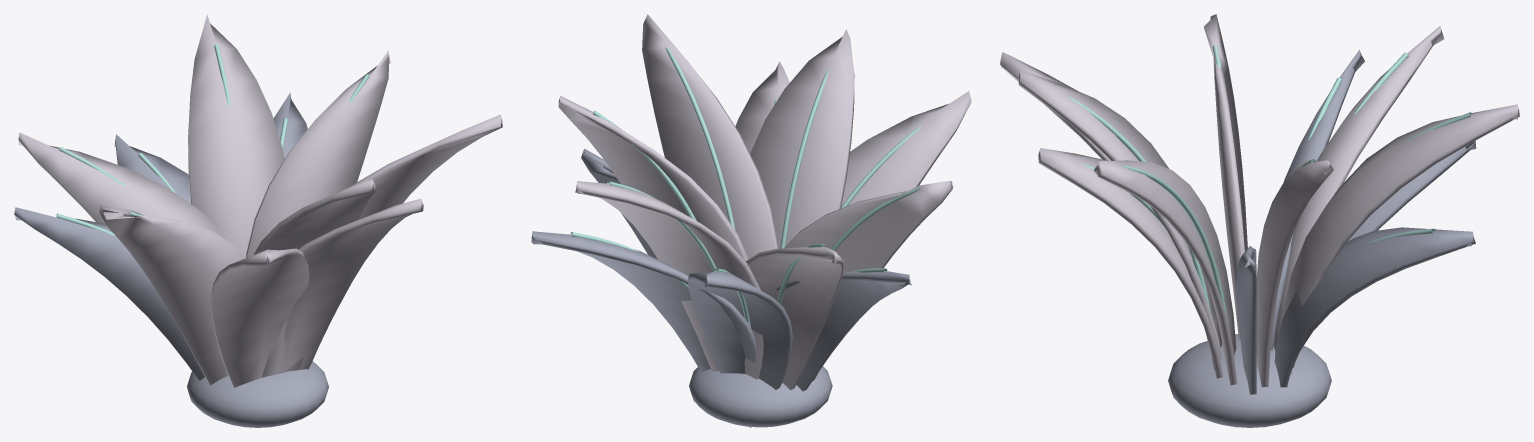
The model's file is bio_mist_leaf_21_near.glb.
3 renders of one model, left to right at view 1: azimuth 30°, elevation 25°; view 2: azimuth 150°, elevation 25°; view 3: azimuth 270°, elevation 25°, orthographic. The views are drawn at different scales.
Visible parts, largest first — view 1: Cupped condensate leaf.011, Cupped condensate leaf.004, Cupped condensate leaf.008, Cupped condensate leaf.007, Cupped condensate leaf.010, Cupped condensate leaf.001, Cupped condensate leaf.009, Root rosette, Cupped condensate leaf.002, Cupped condensate leaf.005, Cupped condensate leaf.006, Cupped condensate leaf.003; view 2: Cupped condensate leaf.002, Cupped condensate leaf.005, Cupped condensate leaf.011, Cupped condensate leaf.006, Cupped condensate leaf.004, Cupped condensate leaf.008, Cupped condensate leaf.007, Cupped condensate leaf.001, Cupped condensate leaf.003, Root rosette, Cupped condensate leaf.009, Cupped condensate leaf.010 (+7 smaller); view 3: Cupped condensate leaf.011, Root rosette, Cupped condensate leaf.003, Cupped condensate leaf.005, Cupped condensate leaf.001, Cupped condensate leaf.008, Cupped condensate leaf.002, Cupped condensate leaf.010, Cupped condensate leaf.004, Cupped condensate leaf.009, Cupped condensate leaf, Cupped condensate leaf.006 (+3 smaller).
Part boxes in pixels (bbox=[...]): Cupped condensate leaf.011: bbox=[188, 14, 284, 256]; Cupped condensate leaf.004: bbox=[99, 205, 245, 385]; Cupped condensate leaf.008: bbox=[245, 50, 391, 257]; Cupped condensate leaf.007: bbox=[211, 248, 309, 387]; Cupped condensate leaf.010: bbox=[284, 198, 423, 370]; Cupped condensate leaf.001: bbox=[18, 132, 224, 238]; Cupped condensate leaf.009: bbox=[14, 207, 204, 380]; Root rosette: bbox=[187, 361, 328, 427]; Cupped condensate leaf.002: bbox=[253, 179, 375, 377]; Cupped condensate leaf.005: bbox=[311, 114, 502, 363]; Cupped condensate leaf.006: bbox=[114, 134, 190, 203]; Cupped condensate leaf.003: bbox=[273, 92, 307, 158]; Cupped condensate leaf.002: bbox=[750, 29, 854, 248]; Cupped condensate leaf.005: bbox=[642, 14, 778, 258]; Cupped condensate leaf.011: bbox=[575, 181, 763, 379]; Cupped condensate leaf.006: bbox=[688, 271, 792, 427]; Cupped condensate leaf.004: bbox=[784, 180, 953, 381]; Cupped condensate leaf.008: bbox=[558, 96, 748, 261]; Cupped condensate leaf.007: bbox=[841, 91, 971, 206]; Cupped condensate leaf.001: bbox=[745, 246, 844, 427]; Cupped condensate leaf.003: bbox=[531, 231, 756, 371]; Root rosette: bbox=[689, 366, 832, 427]; Cupped condensate leaf.009: bbox=[776, 271, 911, 391]; Cupped condensate leaf.010: bbox=[735, 61, 789, 153]; Cupped condensate leaf.011: bbox=[1282, 104, 1519, 374]; Root rosette: bbox=[1168, 334, 1331, 427]; Cupped condensate leaf.003: bbox=[1274, 227, 1475, 387]; Cupped condensate leaf.005: bbox=[1094, 160, 1237, 385]; Cupped condensate leaf.001: bbox=[1273, 26, 1444, 350]; Cupped condensate leaf.008: bbox=[1256, 160, 1333, 387]; Cupped condensate leaf.002: bbox=[1018, 70, 1217, 369]; Cupped condensate leaf.010: bbox=[1038, 148, 1223, 378]; Cupped condensate leaf.004: bbox=[1204, 14, 1247, 339]; Cupped condensate leaf.009: bbox=[1270, 50, 1364, 350]; Cupped condensate leaf: bbox=[1236, 246, 1256, 394]; Cupped condensate leaf.006: bbox=[1293, 141, 1476, 367].
Size of the model in its own units: 1.83 by 1.42 by 1.9.
